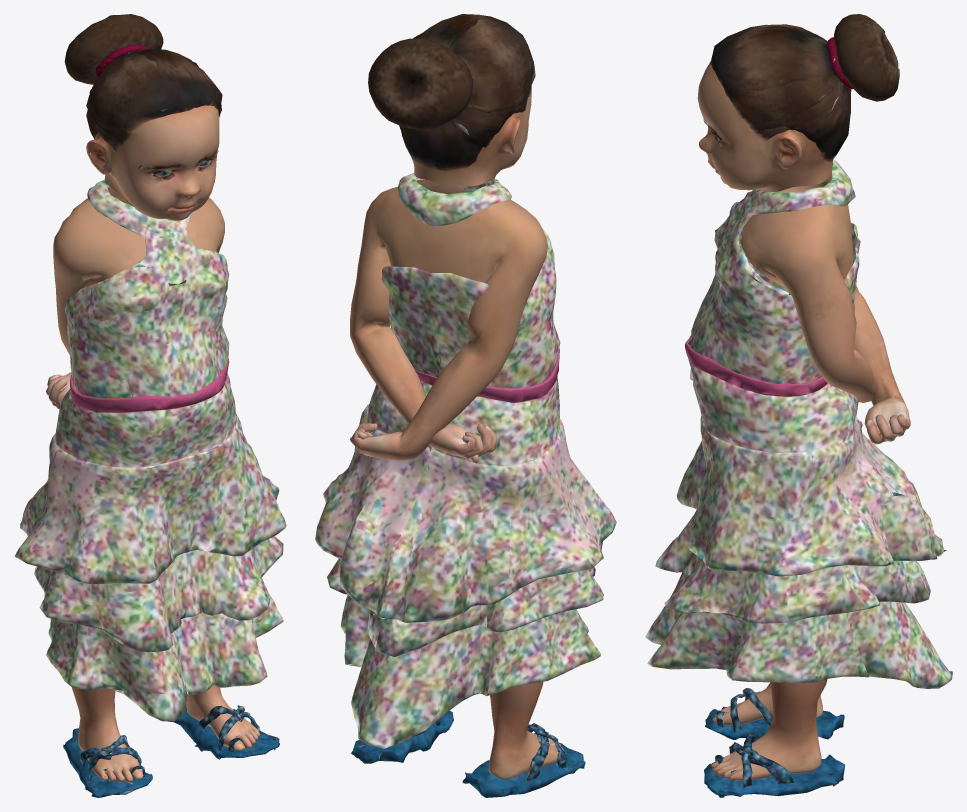
The picture shows the model from 3 angles, left to right: view 1: azimuth 30°, elevation 25°; view 2: azimuth 150°, elevation 25°; view 3: azimuth 270°, elevation 25°; orthographic projection. The views are drawn at different scales.
Parts seen in each view (by area): view 1: p02296; view 2: p02296; view 3: p02296.
Boxes of the visible parts, x1,y1,x2,y2 form: p02296: (14, 14, 286, 797); p02296: (315, 14, 616, 797); p02296: (645, 14, 952, 797).
Bounding box in the file's own units: 0.327 × 0.8763 × 0.3294.
Materials: 1 (1 with a texture image).
